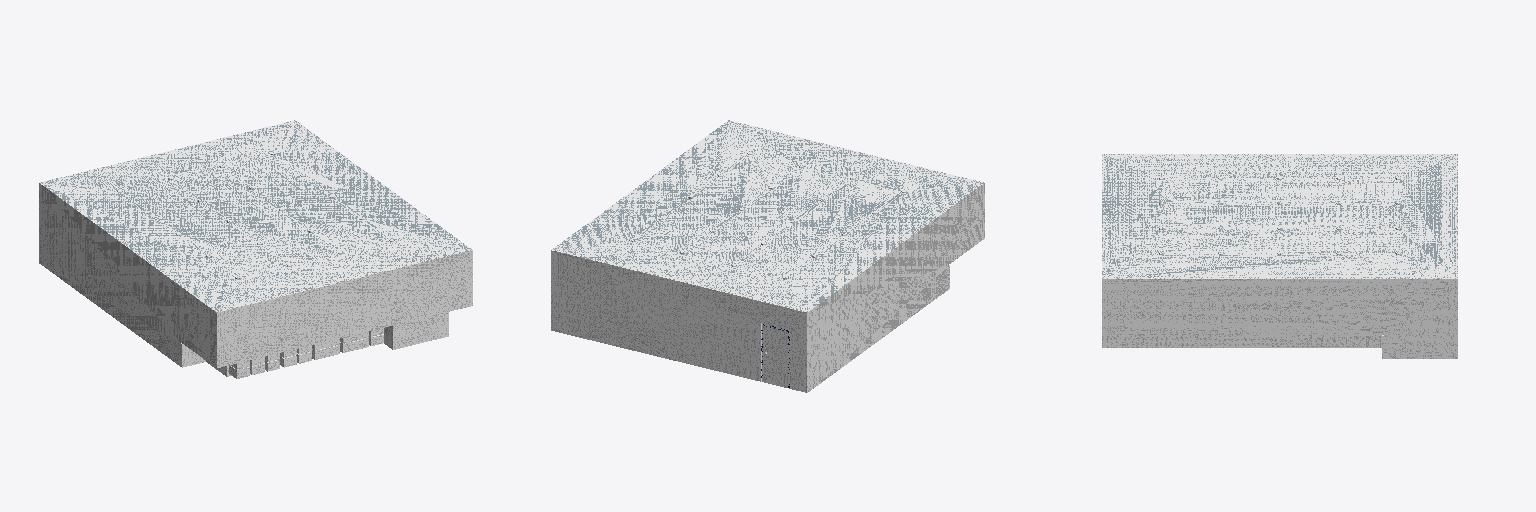
Rendered from Room.obj.
3 views of the same model, side by side, from view 1: azimuth 30°, elevation 25°; view 2: azimuth 150°, elevation 25°; view 3: azimuth 270°, elevation 25° (orthographic).
Visible parts, largest first — view 1: Mesh2 Model; view 2: Mesh2 Model; view 3: Mesh2 Model.
Part boxes in pixels (left/top/right/bottom): Mesh2 Model: left=39, top=120, right=472, bottom=378; Mesh2 Model: left=551, top=120, right=984, bottom=392; Mesh2 Model: left=1102, top=154, right=1457, bottom=358.
Size of the model in its own units: 10 by 3.05 by 12.